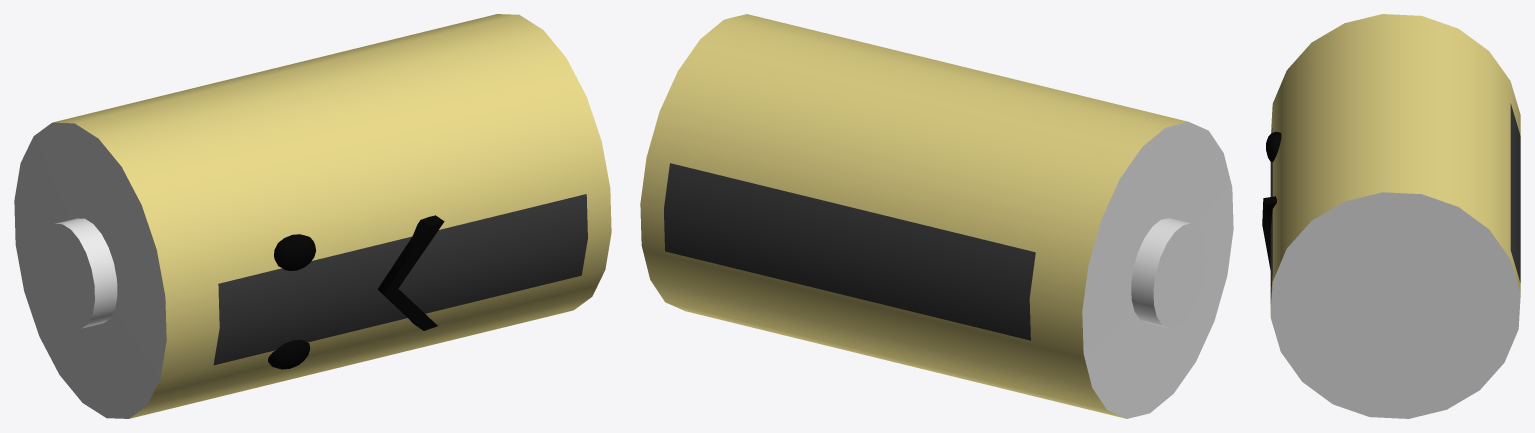
The model's file is denti1korogaru.fbx.
3 views of the same model, side by side, from view 1: azimuth 30°, elevation 25°; view 2: azimuth 150°, elevation 25°; view 3: azimuth 270°, elevation 25° (orthographic). The views are drawn at different scales.
Parts seen in each view (by area): view 1: pasted__pCube2; view 2: pasted__pCube2; view 3: pasted__pCube2.
Boxes of the visible parts, box(x1,y1,x2,y2) form: pasted__pCube2: box(14, 14, 611, 418); pasted__pCube2: box(640, 14, 1233, 418); pasted__pCube2: box(1262, 14, 1520, 418).
Bounding box in the file's own units: 3.1 × 1.75 × 1.81.
